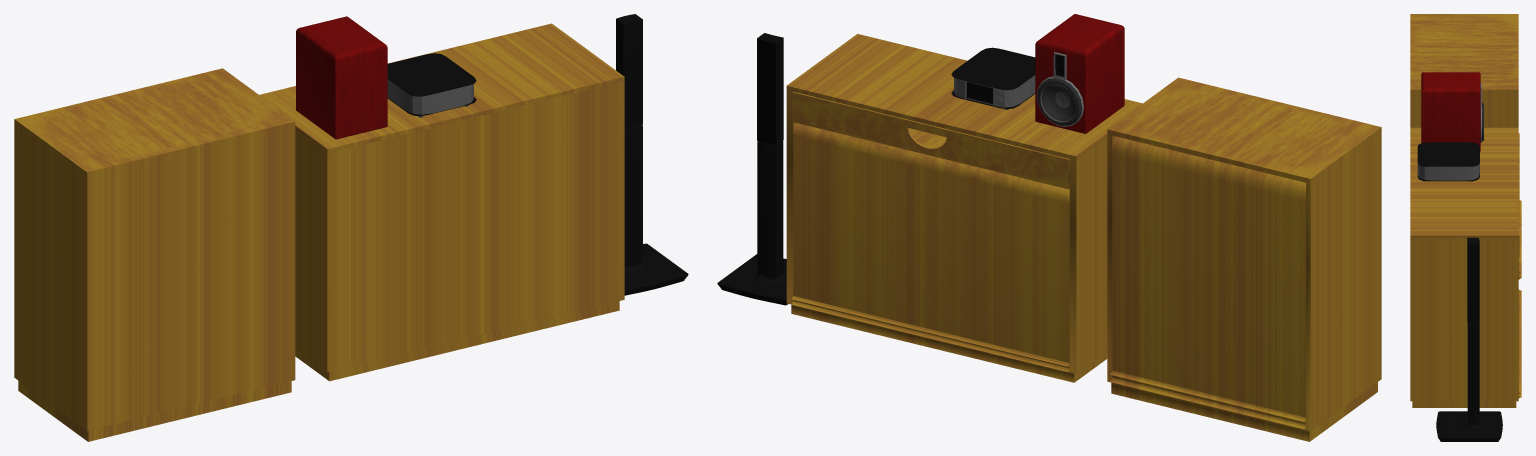
Rendered from KuuraKaappeja.FBX.
3 views of the same model, side by side, from view 1: azimuth 30°, elevation 25°; view 2: azimuth 150°, elevation 25°; view 3: azimuth 270°, elevation 25° (orthographic). The views are drawn at different scales.
Parts seen in each view (by area): view 1: Box022, Box032, Box012, Box001, Box013; view 2: Box032, Box022, Box012, Box001, Box013; view 3: Box032, Box022, Box012, Box001, Box013.
Boxes of the visible parts, bbox=[...] form: Box022: bbox=[14, 68, 295, 441]; Box032: bbox=[259, 23, 624, 381]; Box012: bbox=[296, 16, 387, 139]; Box001: bbox=[616, 14, 688, 295]; Box013: bbox=[387, 53, 476, 117]; Box032: bbox=[786, 34, 1142, 382]; Box022: bbox=[1107, 77, 1381, 441]; Box012: bbox=[1035, 14, 1124, 133]; Box001: bbox=[717, 33, 788, 305]; Box013: bbox=[951, 47, 1035, 109]; Box032: bbox=[1410, 127, 1521, 407]; Box022: bbox=[1410, 14, 1521, 279]; Box012: bbox=[1421, 72, 1483, 151]; Box001: bbox=[1436, 237, 1502, 441]; Box013: bbox=[1417, 142, 1479, 181].
Bounding box in the file's own units: 256 × 127 × 53.46.
9 materials, 3 textured.
